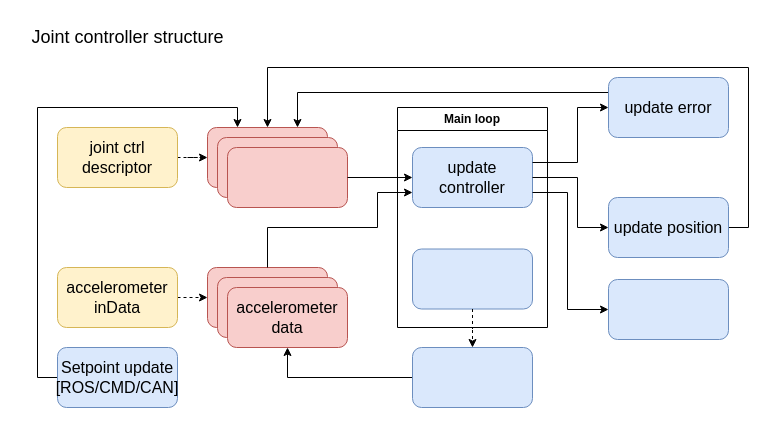
The diagram is 774 pixels wide and 425 high, and some of its shapes have lost their labels. The shapes that lost their labels are listed below. From the top down, each one's centre as x and y in pixels, then its label:
At (x=287, y=177): "joint controllers".
At (x=472, y=278): "request accelerometer data".
At (x=668, y=309): "update power".
At (x=472, y=377): "accelerometer data [CAN]".
